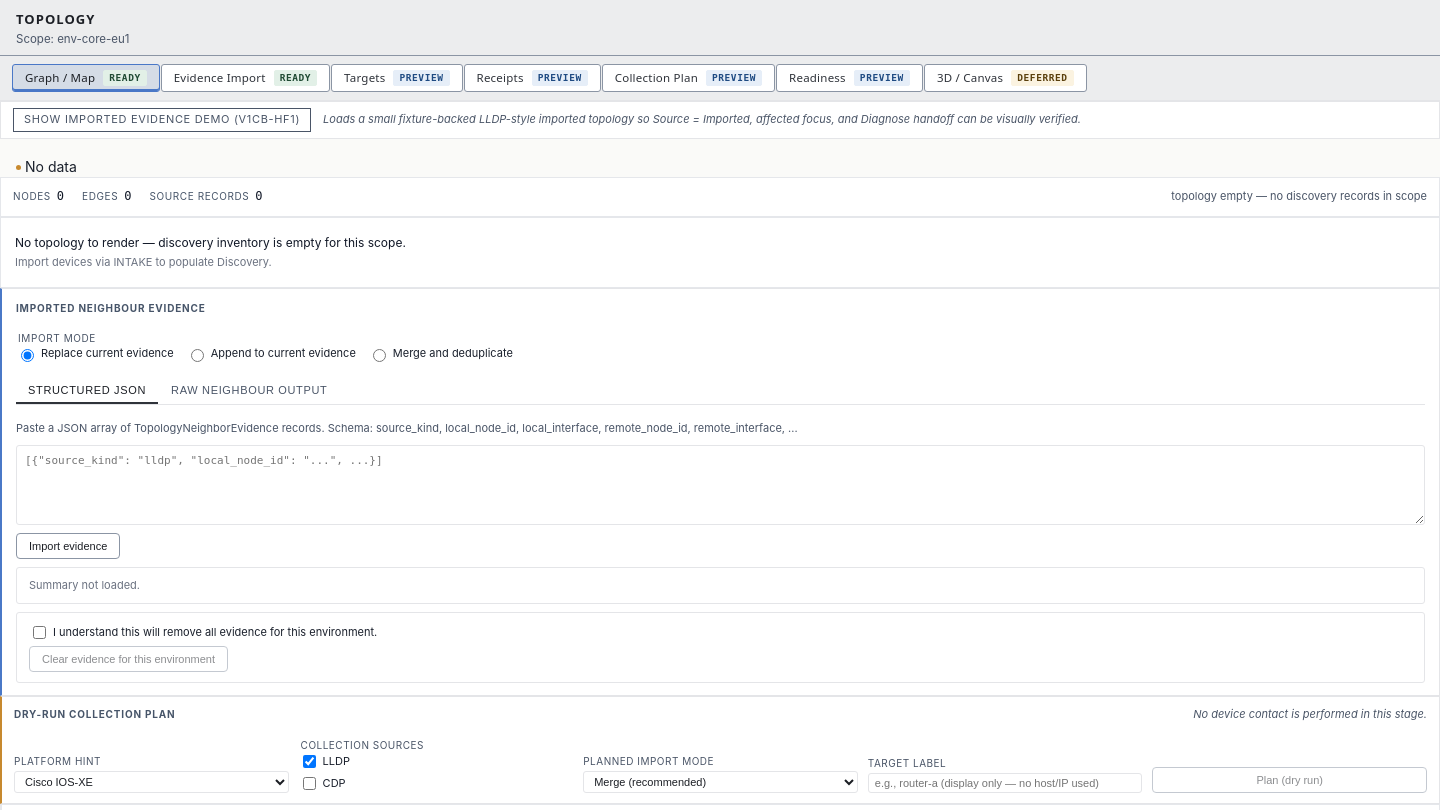
TopologyMode › TopologyMode — V1AP Raw neighbour output import (UI) › tab switch preserves form state independently
Fill raw form
Click the tab with test id "tm-evidence-tab-raw".
click(249, 391)  # box [159,378,340,404]
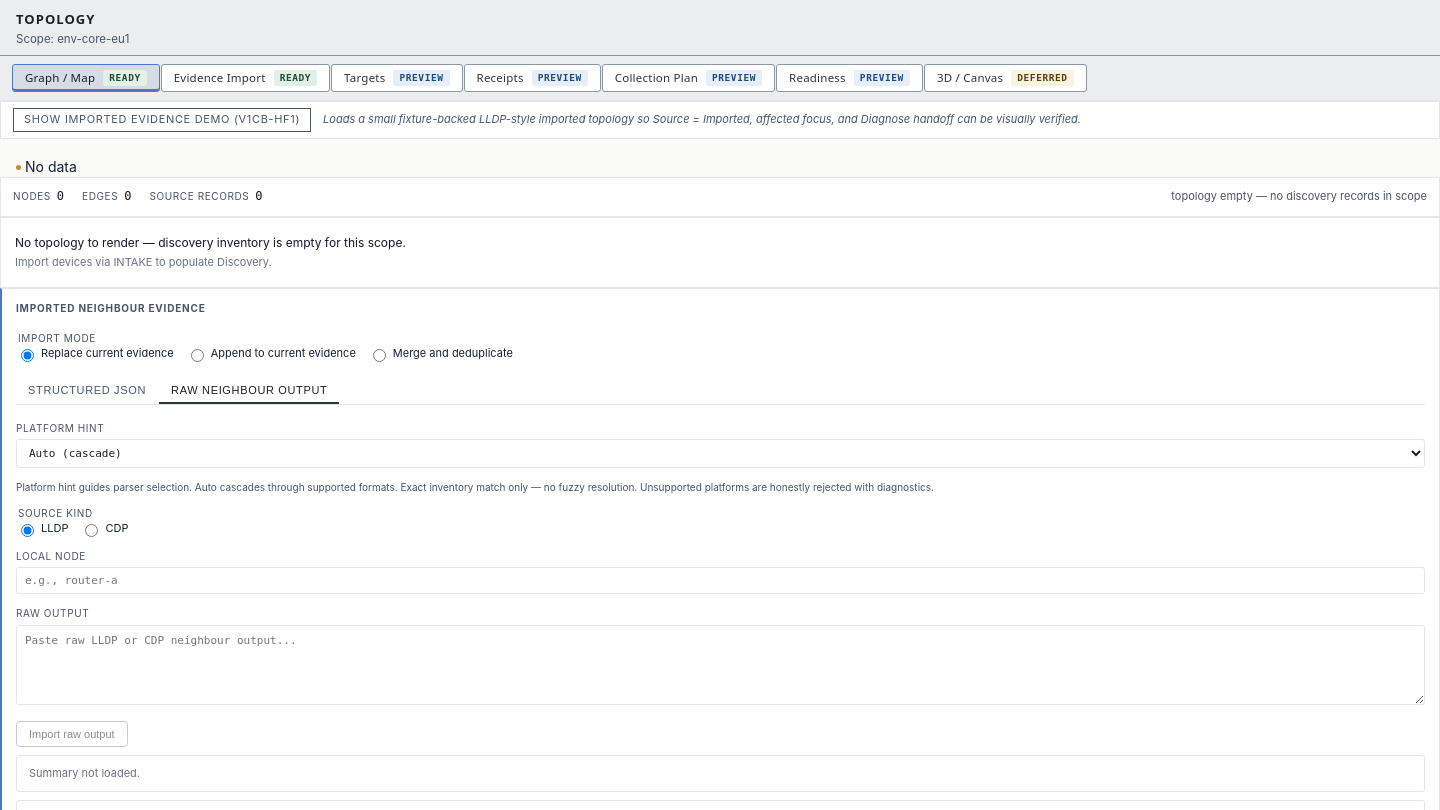
Type "router-x" into the field with test id "tm-raw-local-node".
click(720, 581); type("router-x")  # box [16,567,1425,594]
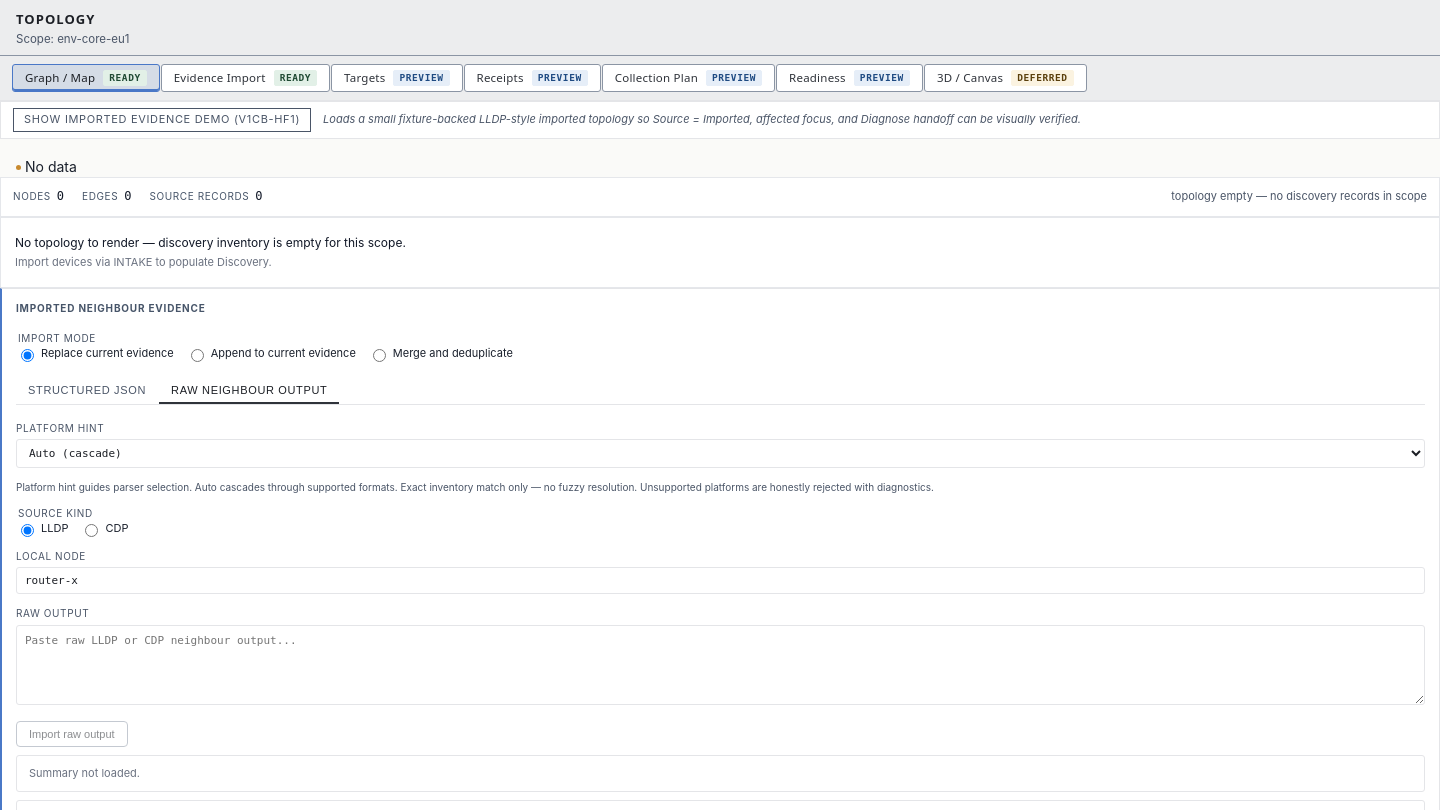
Type "test output" into the text box with test id "tm-raw-output-textarea".
click(720, 665); type("test output")  # box [16,625,1425,705]
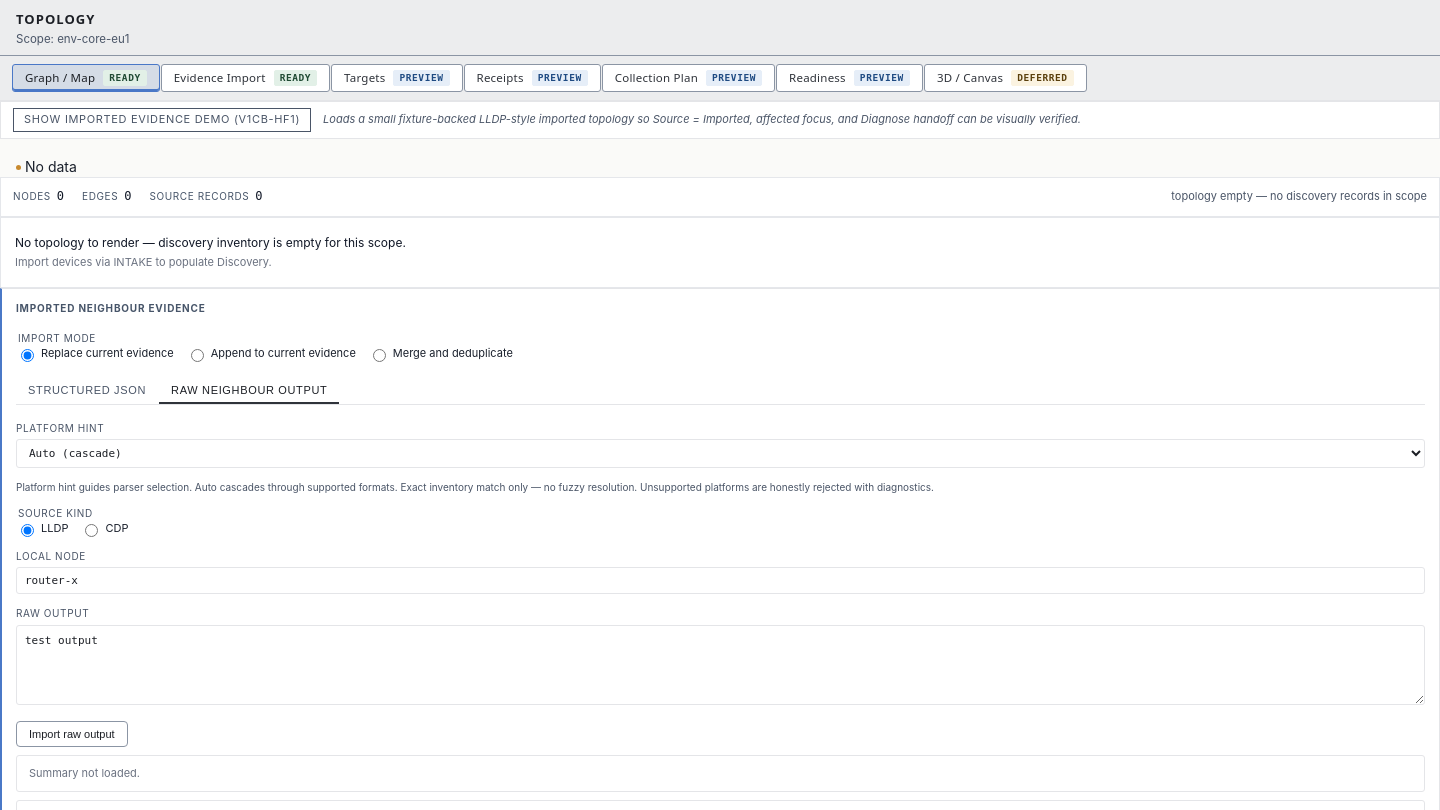
Switch to JSON
Click the tab with test id "tm-evidence-tab-json".
click(87, 391)  # box [16,378,158,404]
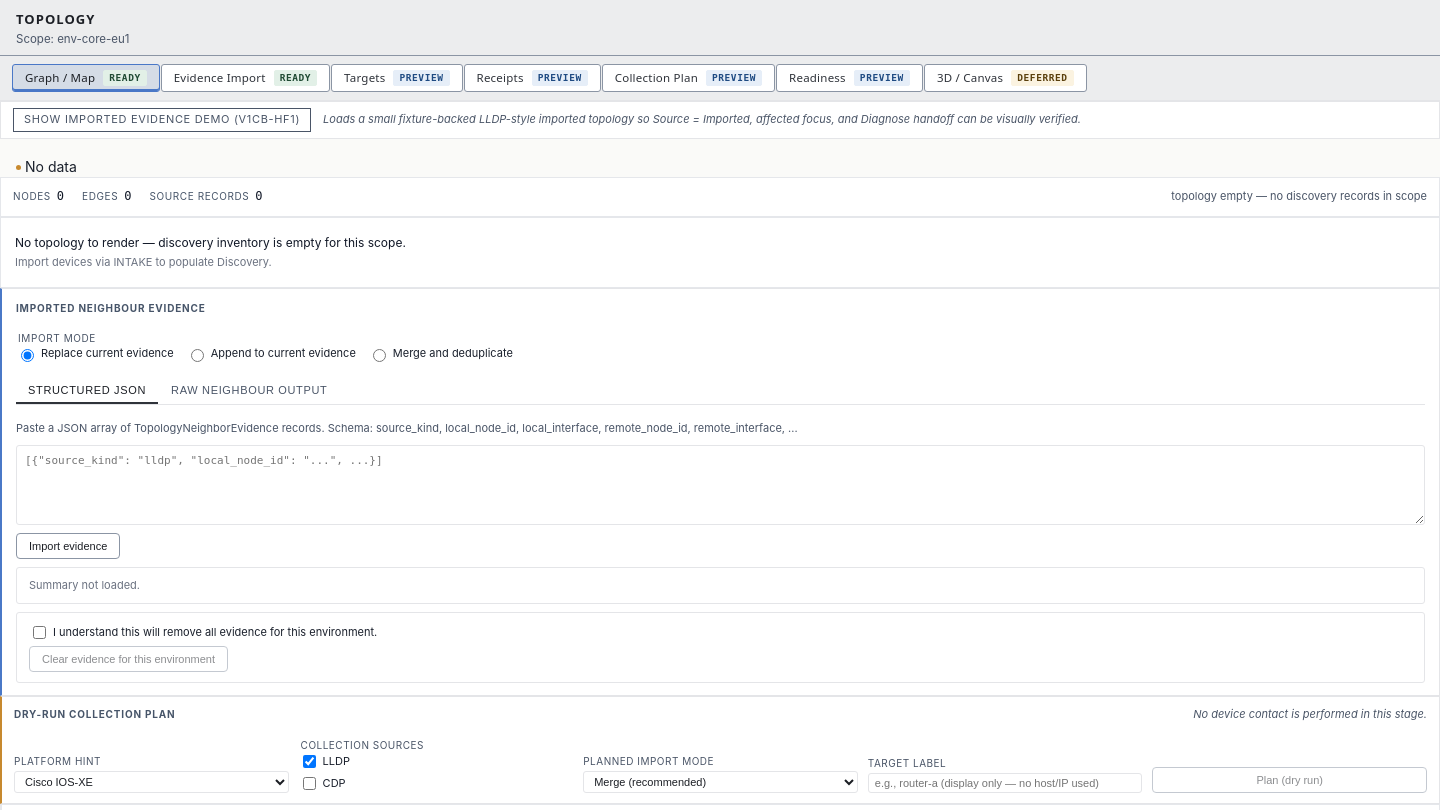
Expected: the text box with test id "tm-evidence-import-textarea" is shown, [16,445,1425,525]
Expected: the button with test id "tm-evidence-import-button" is shown, [16,533,120,559]
Switch back to raw
Click the tab with test id "tm-evidence-tab-raw".
click(249, 391)  # box [159,378,340,404]
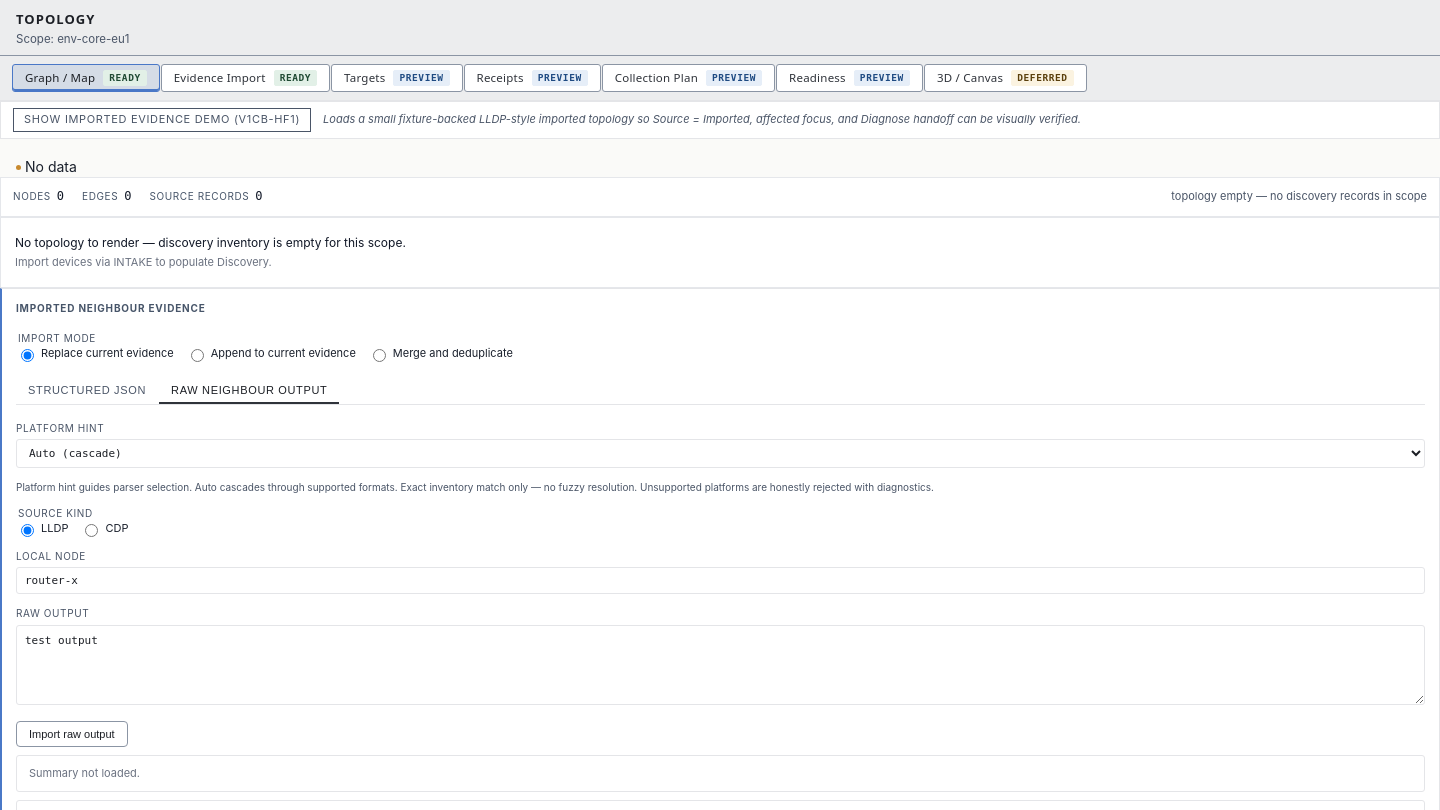
Expected: the field with test id "tm-raw-local-node" holds "router-x", [16,567,1425,594]
Expected: the text box with test id "tm-raw-output-textarea" holds "test output", [16,625,1425,705]
